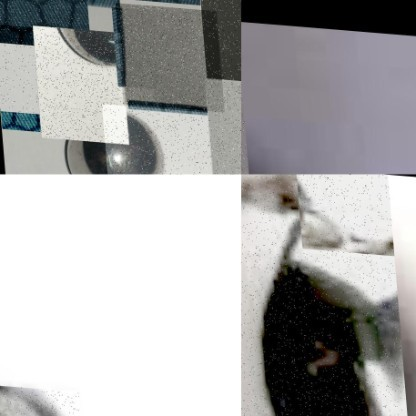ironball: (241, 174, 414, 415), (114, 0, 222, 106), (31, 23, 126, 141), (99, 100, 213, 174), (0, 0, 89, 46), (0, 22, 37, 129), (202, 74, 241, 174), (198, 0, 241, 79)
